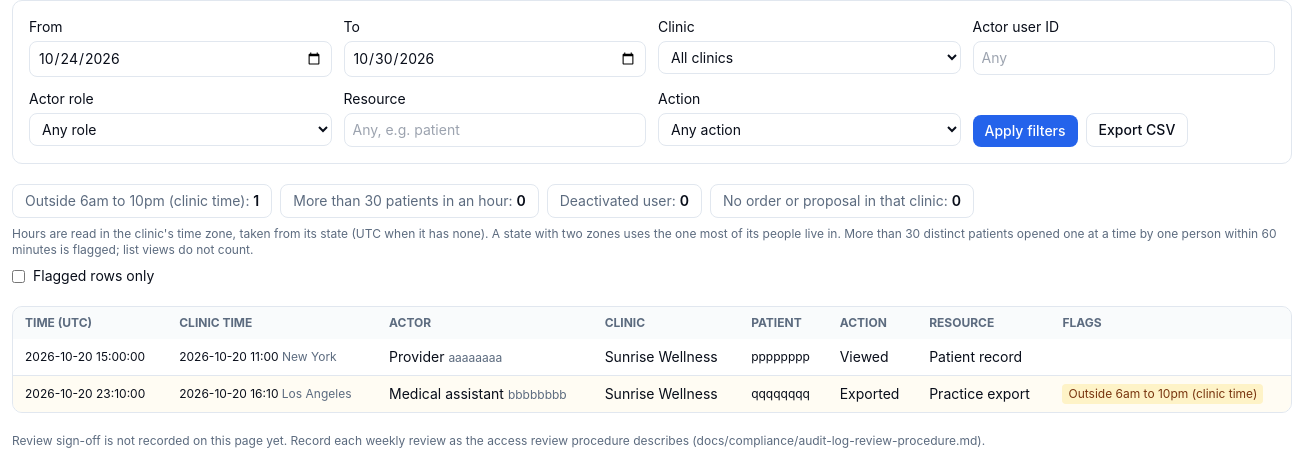
Test: "Flagged rows only" narrows the table
The image size is (1292, 465).
Expected: the number of rows is 3, [13, 307, 1291, 339]; [13, 339, 1291, 376]; [13, 376, 1291, 412]
Step 1. Click the checkbox labelled "Flagged rows only" → [18, 276], box [12, 270, 25, 282]
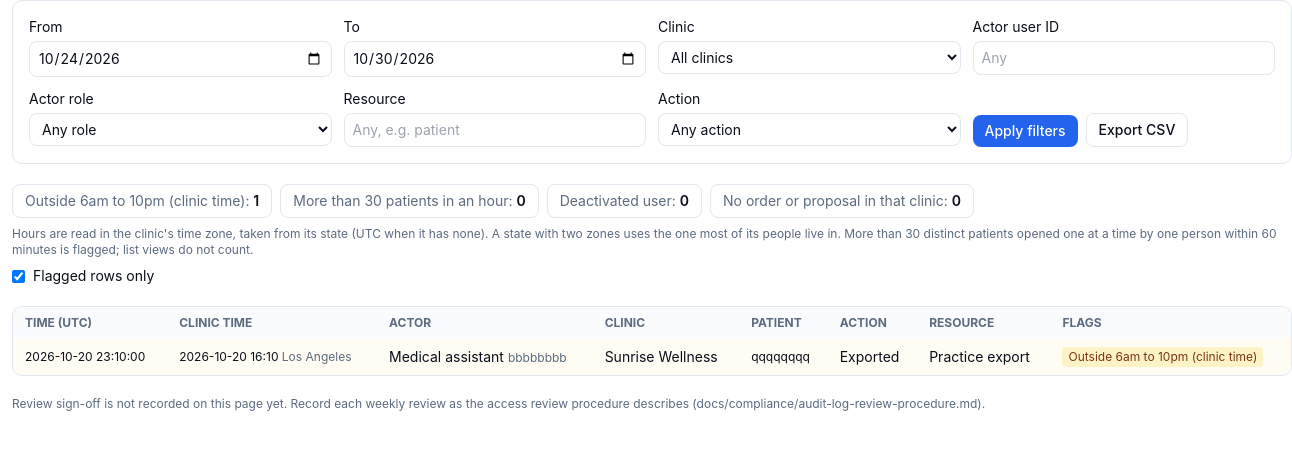
Expected: the number of rows is 2, [13, 307, 1291, 339]; [13, 339, 1291, 375]
